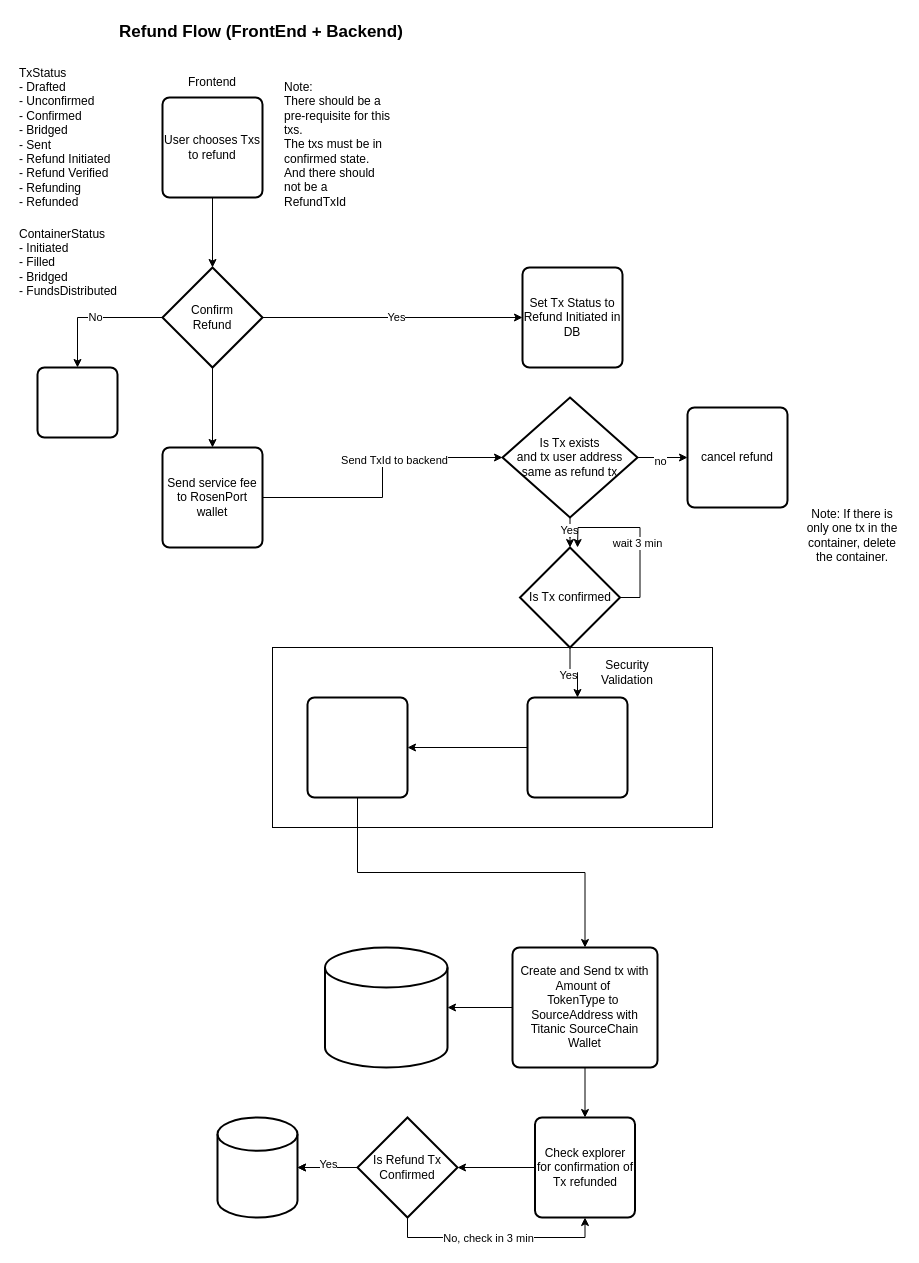
Image size: 919x1263. Some labels were removed from this diagram. Each missing label, with the centre of its shape:
"Canceled. Tx Flow Ended" goes at pixel 77 402.
"Get Source Address, Source Chain, Amount, TokenType from DB" goes at pixel 577 747.
"Set Tx Status: Refunded" goes at pixel 257 1167.
"Set Tx Status: Refunding Update RefundTxId" goes at pixel 386 1007.
"Validate TxId via Explorer, and that the Tx was completed" goes at pixel 357 747.
